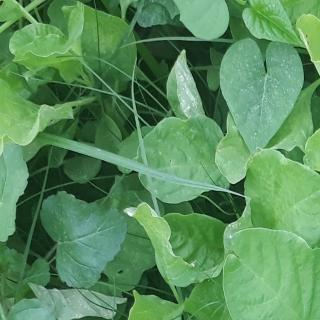karat_putih: (14, 276, 127, 320), (164, 50, 206, 120), (301, 0, 320, 16)
kekurangan_mangan: (296, 12, 320, 123)
